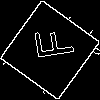F: (25, 25, 75, 63)
